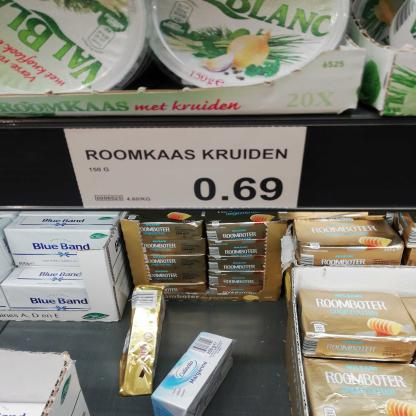prtg: (65, 128, 308, 209)
